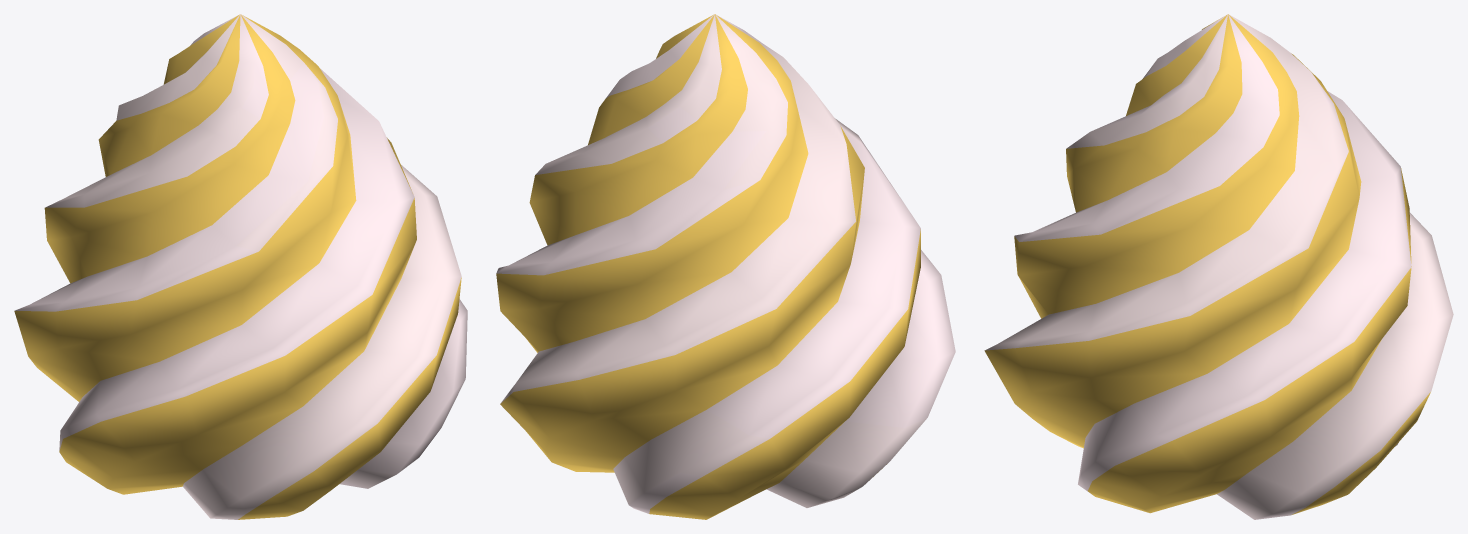
The model's file is Ice Cream Spiral C White Yellow.fbx.
3 views of the same model, side by side, from view 1: azimuth 30°, elevation 25°; view 2: azimuth 150°, elevation 25°; view 3: azimuth 270°, elevation 25° (orthographic).
Visible parts, largest first — view 1: Ice Cream Spiral C White Yellow; view 2: Ice Cream Spiral C White Yellow; view 3: Ice Cream Spiral C White Yellow.
Boxes of the visible parts, x1,y1,x2,y2 form: Ice Cream Spiral C White Yellow: (14, 14, 467, 519); Ice Cream Spiral C White Yellow: (496, 14, 955, 519); Ice Cream Spiral C White Yellow: (984, 14, 1453, 519).
Size of the model in its own units: 0.4215 by 0.4617 by 0.4308.
